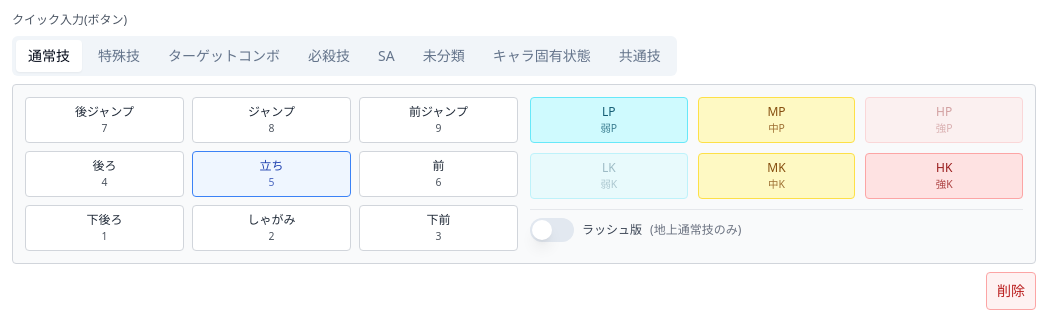
Test: VirtualController(タブ式クイック入力・M15-03) › ★★M30-02(SD-020): 非プレーン OD 3 種は既定非表示で、展開すると 3 つとも出る
Click the tab with test id "recipe-tab-special" at (329, 56), box x1=296 y1=40 x2=362 y2=72
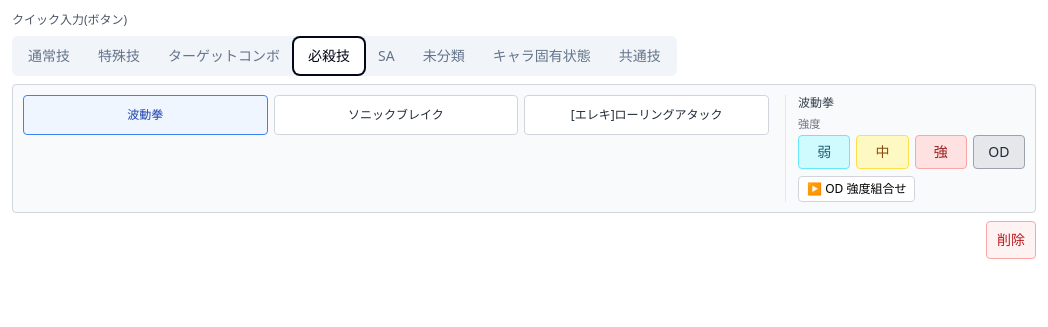
Click the button with test id "recipe-special-family-hadoken" at (145, 115), box x1=23 y1=95 x2=268 y2=135
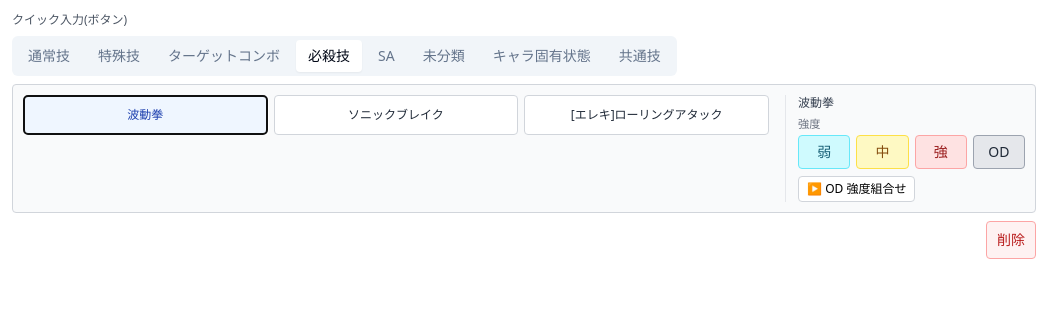
Expected: the button with test id "recipe-special-od-plain" is shown, x1=973 y1=135 x2=1025 y2=169
Click the button "▶ OD 強度組合せ" at (857, 189), box x1=798 y1=176 x2=915 y2=202
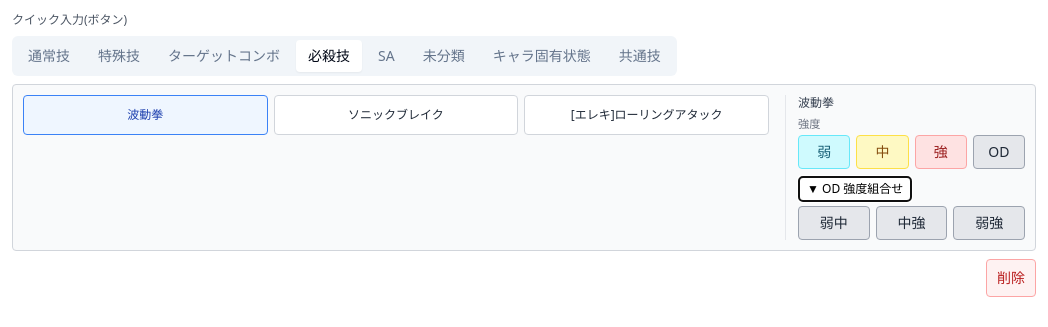
Expected: the button with test id "recipe-special-od-lm" is shown, x1=798 y1=206 x2=870 y2=240
